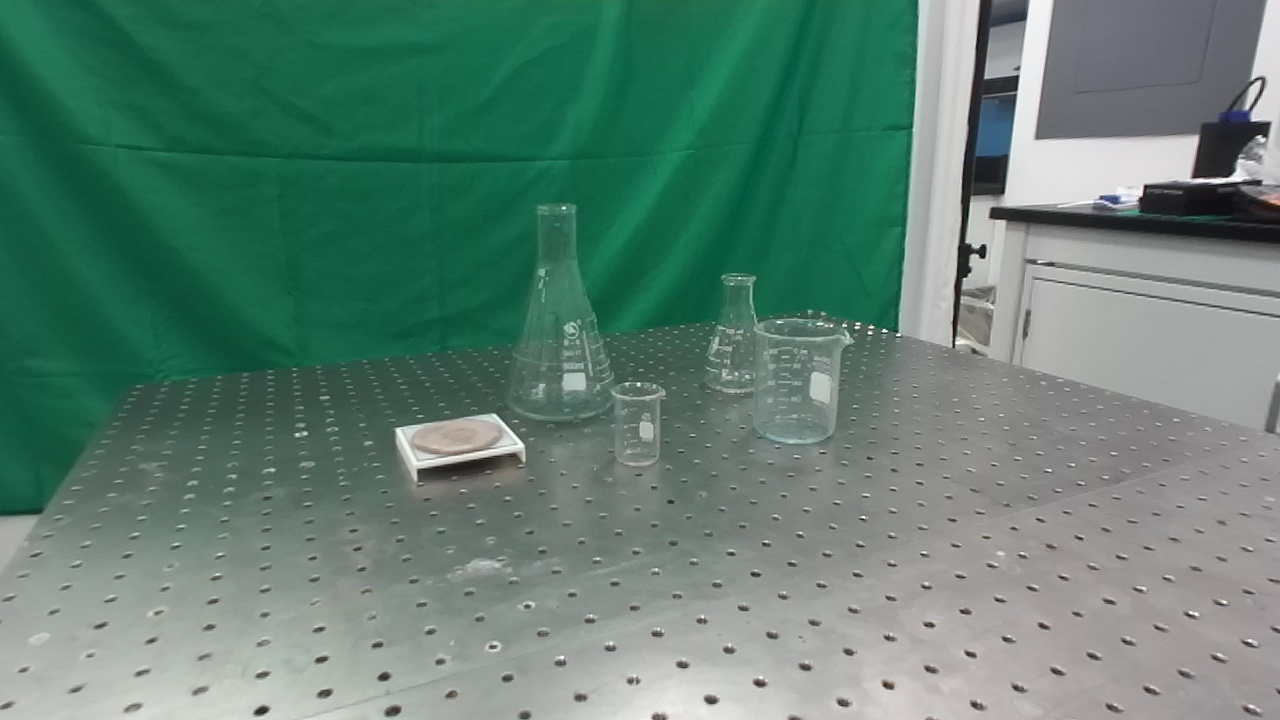glass: (505, 197, 625, 426), (746, 318, 853, 446), (697, 270, 776, 399), (609, 378, 669, 471)
plate: (392, 410, 532, 490)
